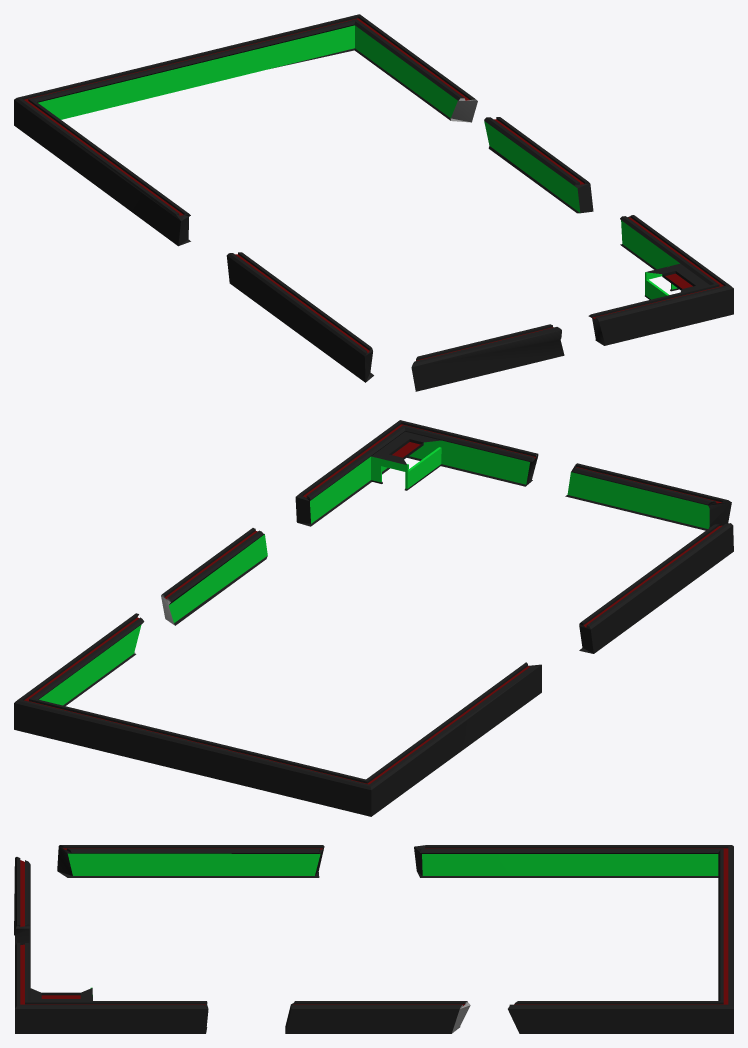
File: FlipperkastFrameKapot.FBX
3 renders of one model, top to bottom at view 1: azimuth 30°, elevation 25°; view 2: azimuth 150°, elevation 25°; view 3: azimuth 270°, elevation 25°, orthographic. The views are drawn at different scales.
Parts seen in each view (by area): view 1: FlipperkastFrameKapot; view 2: FlipperkastFrameKapot; view 3: FlipperkastFrameKapot.
Part boxes in pixels (x1,y1,x2,y2): FlipperkastFrameKapot: (14,14,733,391); FlipperkastFrameKapot: (14,420,733,816); FlipperkastFrameKapot: (14,845,733,1033).
Bounding box in the file's own units: 4.91 × 0.3792 × 9.16.
